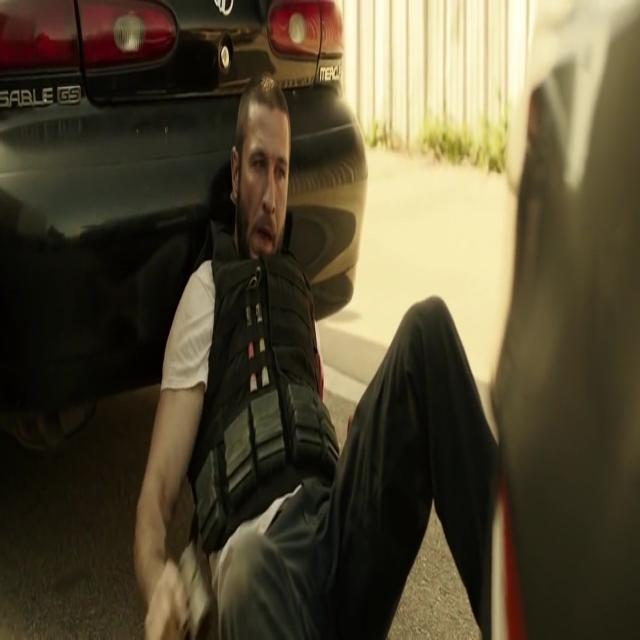Weapon: (162, 535, 218, 640)
